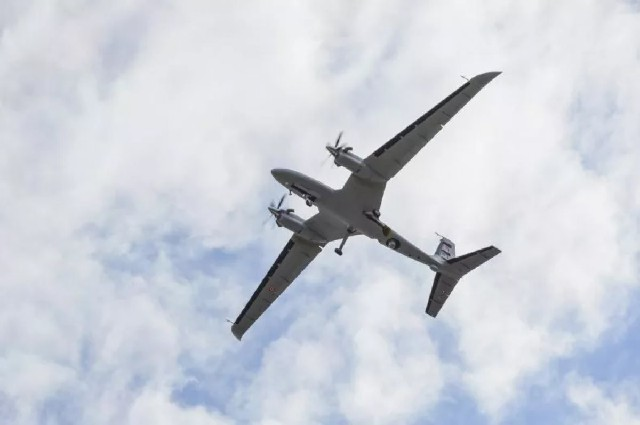maybay_khongnguoilai: (228, 71, 502, 335)
